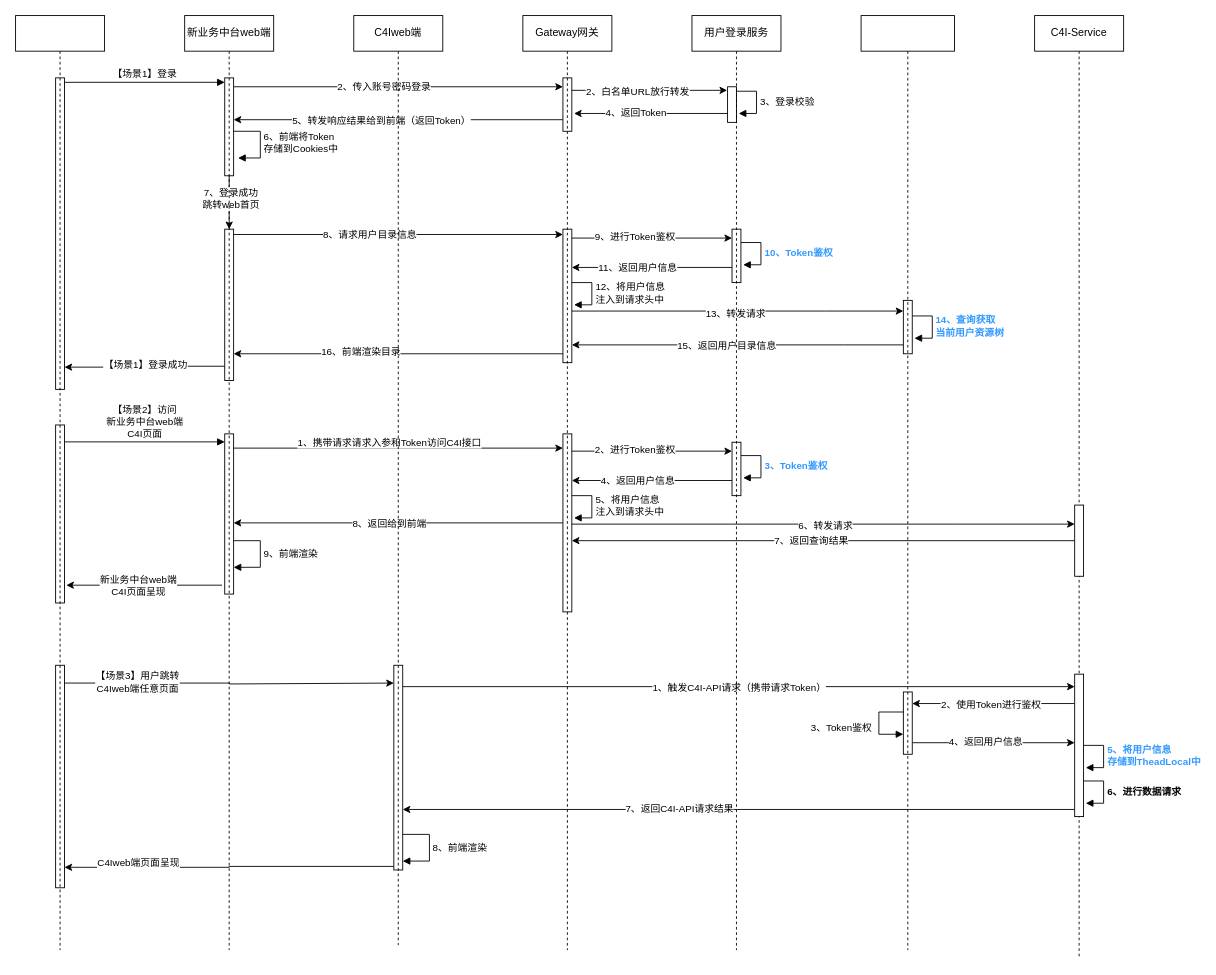
Image size: 1216x975. Some labels were removed from this diagram. Each missing label, with the box of its shape:
权限中心: (860, 15, 955, 950)
用户A: (15, 15, 105, 950)
